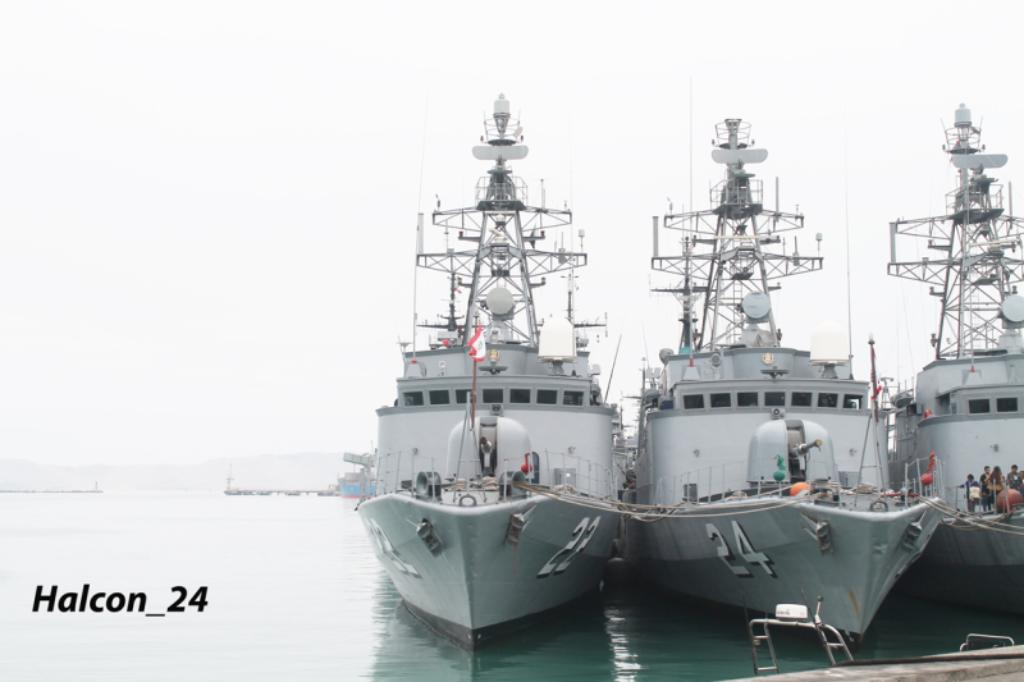Warship: (626, 103, 946, 649), (350, 85, 632, 650), (892, 92, 1024, 620)
